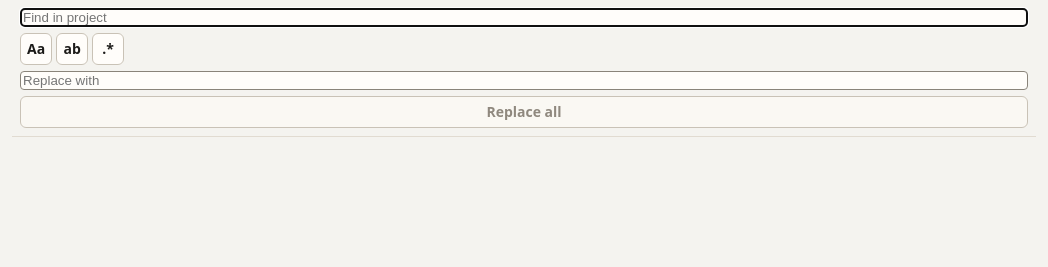
it: ProjectSearch › replaces in every file with matches, and not in read-only windows
The width and height of the screenshot is (1048, 267).
Later steps or results of the test are not shown.
Type "intro" into the field labelled "Find in project".
click(524, 18); type("intro")  # box x1=20 y1=8 x2=1028 y2=27
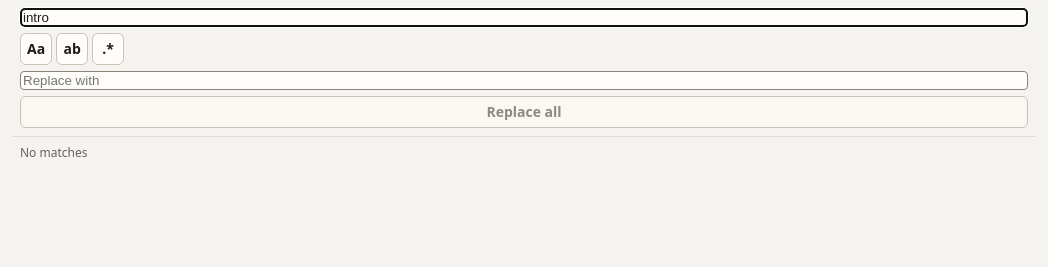
Type "start" into the field labelled "Replace with".
click(524, 80); type("start")  # box x1=20 y1=71 x2=1028 y2=90
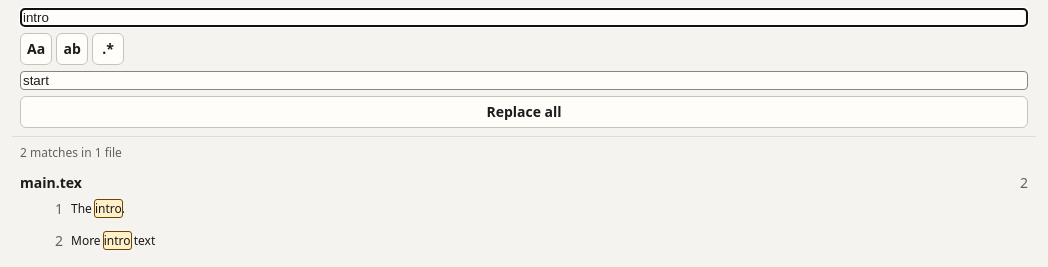
Expected: the button "Replace all" is enabled, x1=20 y1=96 x2=1028 y2=128
